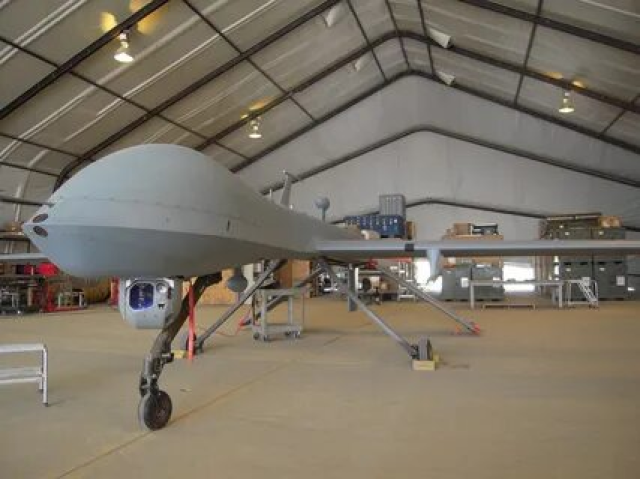military drone: (19, 142, 640, 430)
